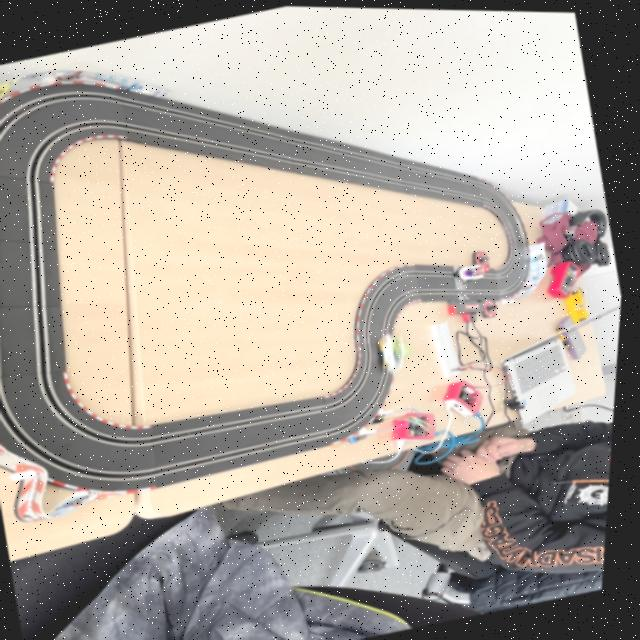mario: (457, 257, 497, 282)
yoshi: (377, 324, 423, 375)
